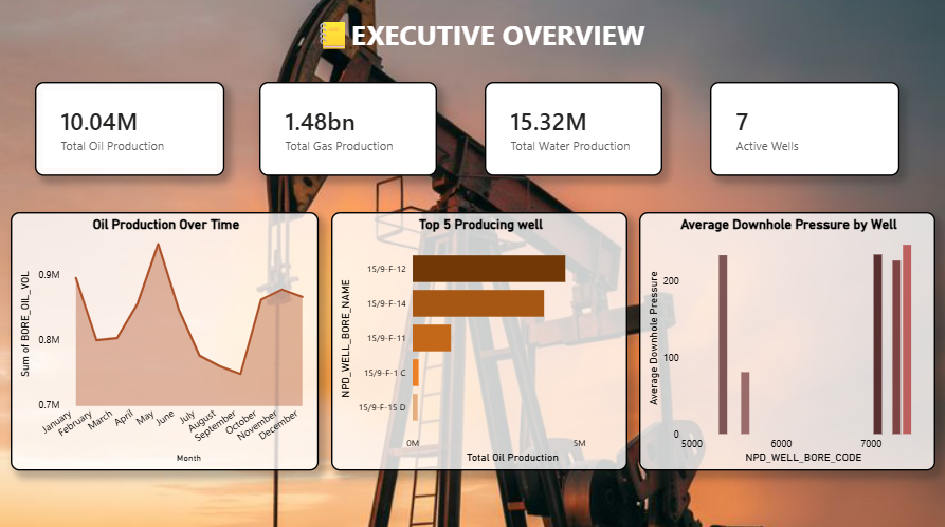

The page's visual inventory and layout, read from the dashboard file:
{"tool":"powerbi","page":{"name":"Page 1","canvas":[1280,720],"ordinal":0},"visuals":[{"type":"cardVisual","fields":{"Data":["Volve production data.Total Oil Production"]},"box":[48,112,256,128],"z":0},{"type":"cardVisual","fields":{"Data":["Volve production data.Total Gas Production"]},"box":[352,112,240,128],"z":1000},{"type":"cardVisual","fields":{"Data":["Volve production data.Total Water Production"]},"box":[656,112,240,128],"z":2000},{"type":"cardVisual","fields":{"Data":["Volve production data.Active Wells"]},"box":[960,112,256,128],"z":3000},{"type":"lineChart","title":"Oil Production Over Time","fields":{"Category":["Volve production data.DATEPRD.Variation.Date Hierarchy.Month"],"Y":["Sum(Volve production data.BORE_OIL_VOL)"]},"box":[16,288,416,352],"z":4000},{"type":"barChart","title":"Top 5 Producing well","fields":{"Category":["Volve production data.NPD_WELL_BORE_NAME"],"Y":["Volve production data.Total Oil Production"]},"box":[448,288,400,352],"z":5000},{"type":"clusteredColumnChart","title":"Average Downhole Pressure by Well","fields":{"Category":["Volve production data.NPD_WELL_BORE_CODE"],"Y":["Volve production data.Average Downhole Pressure"]},"box":[864,288,400,352],"z":6000},{"type":"textbox","box":[224,16,848,80],"z":8000}]}

Visuals, with their boxes in screenshot pixels (x1, y1, x2, y2), scaled from the page's 1280x720 canvas onto the 945x527 screenshot:
cardVisual - Volve production data.Total Oil Production: (35,82,224,176)
cardVisual - Volve production data.Total Gas Production: (260,82,437,176)
cardVisual - Volve production data.Total Water Production: (484,82,662,176)
cardVisual - Volve production data.Active Wells: (709,82,898,176)
"Oil Production Over Time" lineChart: (12,211,319,468)
"Top 5 Producing well" barChart: (331,211,626,468)
"Average Downhole Pressure by Well" clusteredColumnChart: (638,211,933,468)
textbox: (165,12,791,70)
